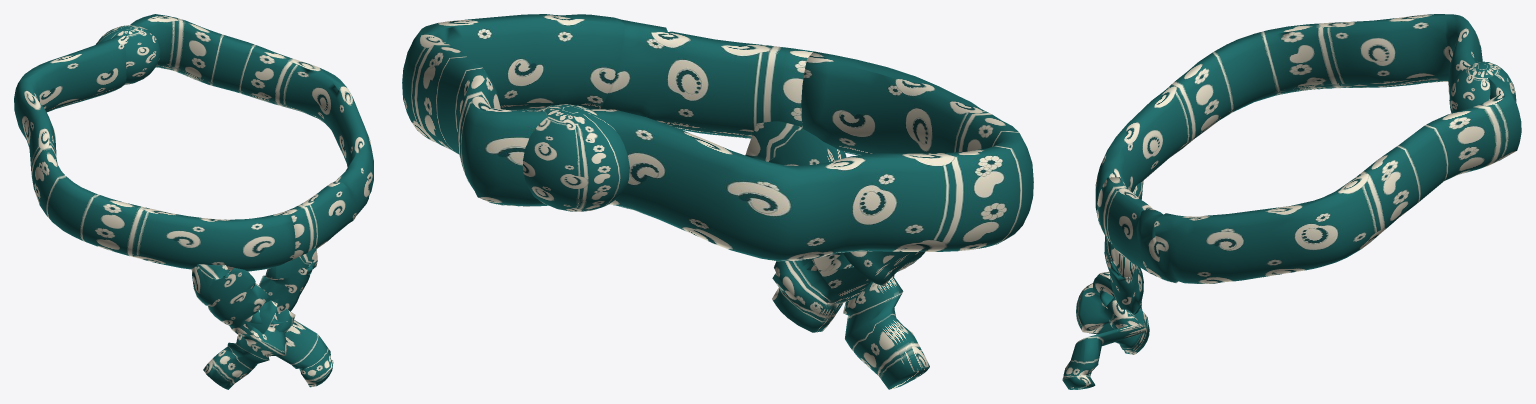
Rendered from bandana.glb.
3 views of the same model, side by side, from view 1: azimuth 30°, elevation 25°; view 2: azimuth 150°, elevation 25°; view 3: azimuth 270°, elevation 25° (orthographic). The views are drawn at different scales.
Visible parts, largest first — view 1: Bandana; view 2: Bandana; view 3: Bandana.
Boxes of the visible parts, box(x1,y1,x2,y2) form: Bandana: box(14, 14, 373, 389); Bandana: box(402, 14, 1033, 389); Bandana: box(1062, 14, 1521, 389).
Bounding box in the file's own units: 2.55 × 1.9 × 2.53.
1 material, 1 textured.
